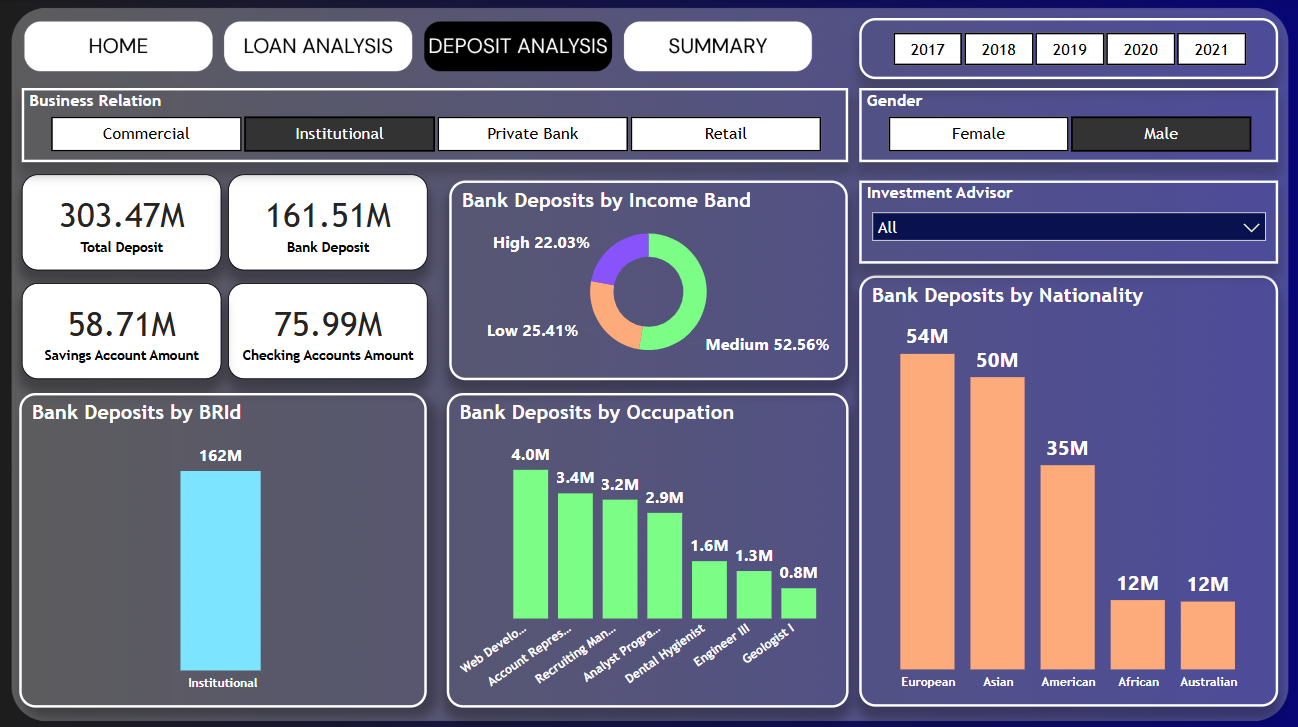

The page's visual inventory and layout, read from the dashboard file:
{"tool":"powerbi","page":{"name":"Deposit Analysis","canvas":[1280,720],"ordinal":2},"visuals":[{"type":"card","fields":{"Values":["Measures Table.Total Deposit"]},"box":[22.9,172.9,195.7,94.3],"z":0},{"type":"card","fields":{"Values":["Sum(Banking.Bank Deposits)"]},"box":[225.7,172.9,195.7,94.3],"z":1000},{"type":"card","fields":{"Values":["Sum(Banking.Checking Accounts)"]},"box":[225.7,280,195.7,94.3],"z":2000},{"type":"card","fields":{"Values":["Sum(Banking.Saving Accounts)"]},"box":[22.9,280,195.7,94.3],"z":3000},{"type":"donutChart","title":"Bank Deposits by Income Band","fields":{"Category":["Banking.Income Band"],"Y":["Sum(Banking.Bank Deposits)"]},"box":[442.9,178.6,391.4,195.7],"z":4000},{"type":"clusteredColumnChart","title":"Bank Deposits by BRId","fields":{"Y":["Sum(Banking.Bank Deposits)"],"Category":["Banking.BRId"]},"box":[21.4,387.1,400,308.6],"z":5000},{"type":"clusteredColumnChart","title":"Bank Deposits by Occupation","fields":{"Y":["Sum(Banking.Bank Deposits)"],"Category":["Banking.Occupation"]},"box":[440,387.1,394.3,308.6],"z":6000},{"type":"clusteredColumnChart","title":"Bank Deposits by Nationality","fields":{"Y":["Sum(Banking.Bank Deposits)"],"Category":["Banking.Nationality"]},"box":[845.7,272.9,411.4,422.9],"z":7000},{"type":"slicer","fields":{"Values":["Banking.Year of Joining"]},"box":[845.7,20,411.4,60],"z":8000},{"type":"slicer","title":"Investment Advisor","fields":{"Values":["Banking.IAId"]},"box":[845.7,178.6,411.4,81.4],"z":9000},{"type":"slicer","title":"Gender","fields":{"Values":["Banking.GenderId"]},"box":[845.7,88.6,411.4,72.9],"z":10000},{"type":"slicer","title":"Business Relation","fields":{"Values":["Banking.BRId"]},"box":[22.9,88.6,811.4,72.9],"z":11000},{"type":"actionButton","box":[24.3,28.6,181.4,40],"z":12000},{"type":"actionButton","box":[221.4,28.6,181.4,40],"z":13000},{"type":"actionButton","box":[421.4,30,181.4,40],"z":14000},{"type":"actionButton","box":[615.7,28.6,181.4,40],"z":15000}]}

Visuals, with their boxes in screenshot pixels (x1, y1, x2, y2), scaled from the page's 1280x720 canvas onto the 1298x727 screenshot:
card - Measures Table.Total Deposit: crop(23, 175, 222, 270)
card - Sum(Banking.Bank Deposits): crop(229, 175, 427, 270)
card - Sum(Banking.Checking Accounts): crop(229, 283, 427, 378)
card - Sum(Banking.Saving Accounts): crop(23, 283, 222, 378)
"Bank Deposits by Income Band" donutChart: crop(449, 180, 846, 378)
"Bank Deposits by BRId" clusteredColumnChart: crop(22, 391, 427, 702)
"Bank Deposits by Occupation" clusteredColumnChart: crop(446, 391, 846, 702)
"Bank Deposits by Nationality" clusteredColumnChart: crop(858, 276, 1275, 703)
slicer - Banking.Year of Joining: crop(858, 20, 1275, 81)
"Investment Advisor" slicer: crop(858, 180, 1275, 263)
"Gender" slicer: crop(858, 89, 1275, 163)
"Business Relation" slicer: crop(23, 89, 846, 163)
actionButton: crop(25, 29, 209, 69)
actionButton: crop(225, 29, 408, 69)
actionButton: crop(427, 30, 611, 71)
actionButton: crop(624, 29, 808, 69)
